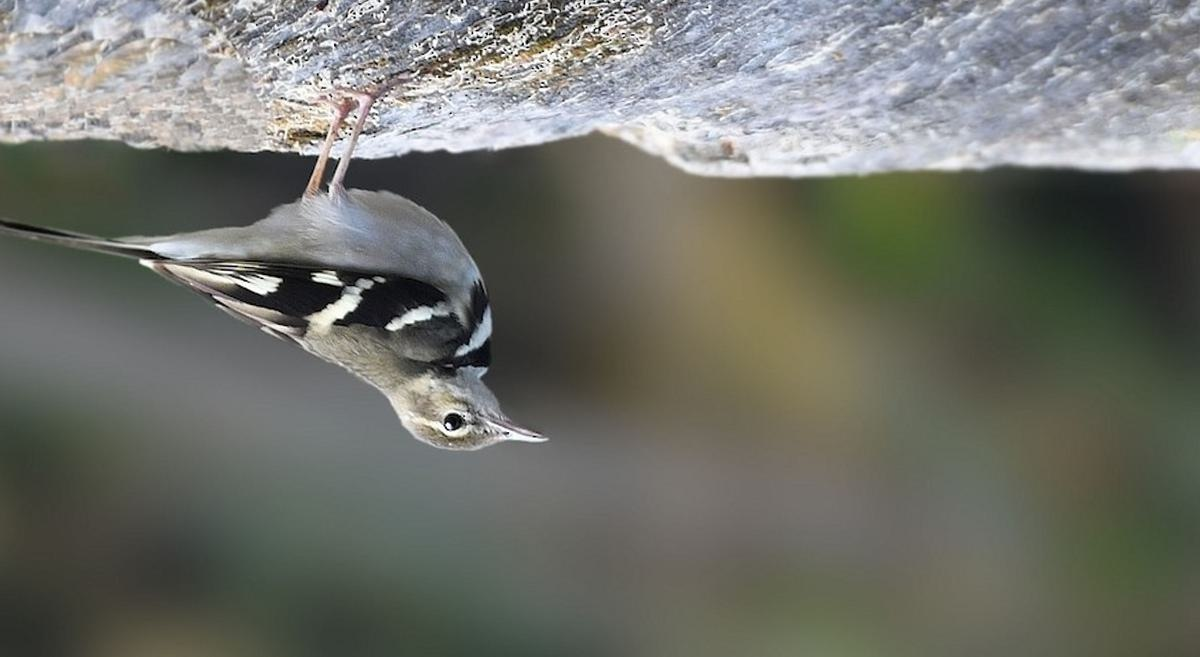wagtail: (120, 133, 565, 453)
